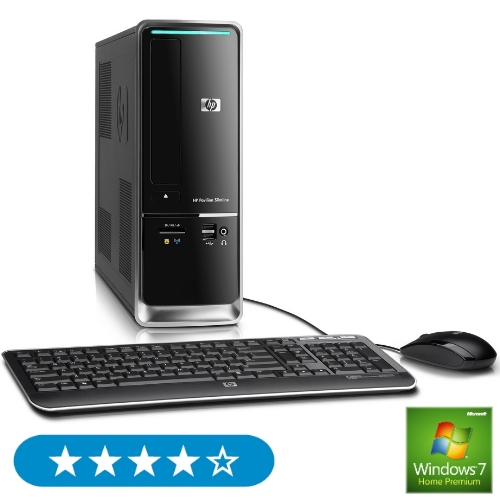Teclado: (3, 331, 421, 418)
